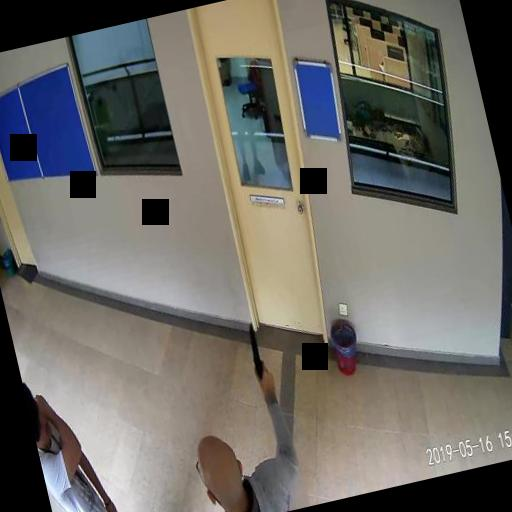Handgun: (242, 320, 274, 389)
